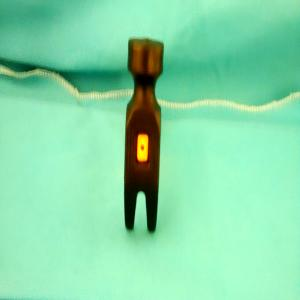martelo: (123, 37, 164, 233)
